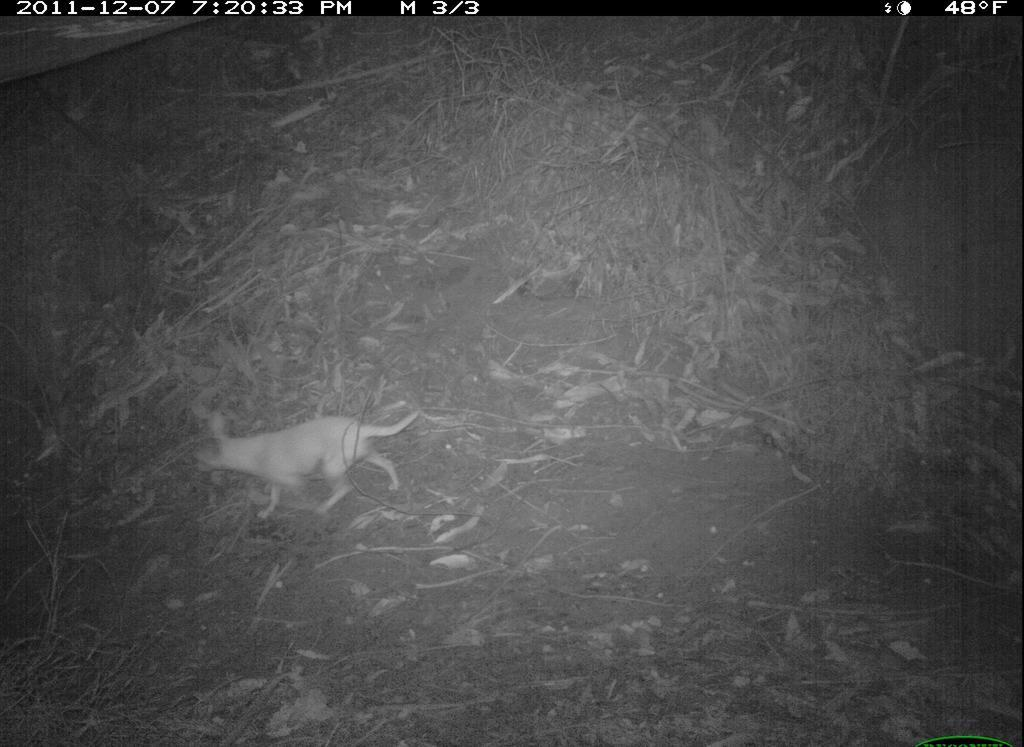dog: (193, 406, 425, 524)
